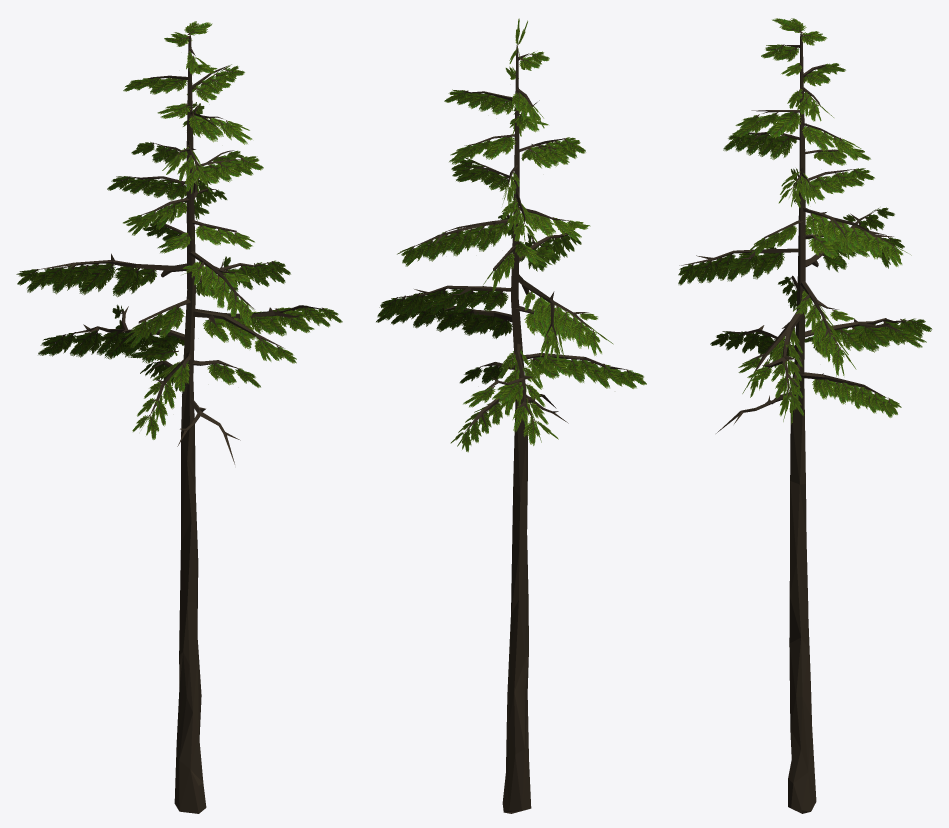
Rendered from pass_pine.gltf.
3 views of the same model, side by side, from view 1: azimuth 30°, elevation 25°; view 2: azimuth 150°, elevation 25°; view 3: azimuth 270°, elevation 25° (orthographic).
Parts seen in each view (by area): view 1: pass_pine; view 2: pass_pine; view 3: pass_pine.
Part boxes in pixels (<box>): pass_pine: <box>16,21,342,813</box>; pass_pine: <box>376,18,646,813</box>; pass_pine: <box>678,18,932,813</box>.
Bounding box in the file's own units: 4.62 × 12.51 × 3.66.
Materials: 2 (2 with a texture image).
